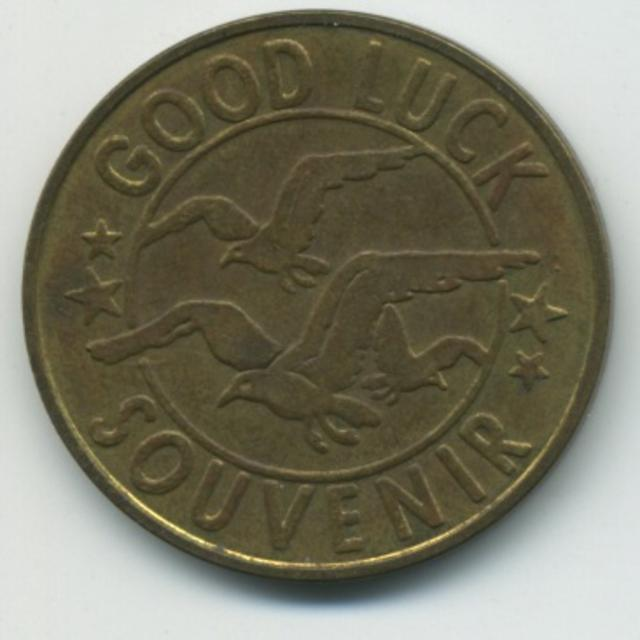Coin: (17, 7, 614, 584)
